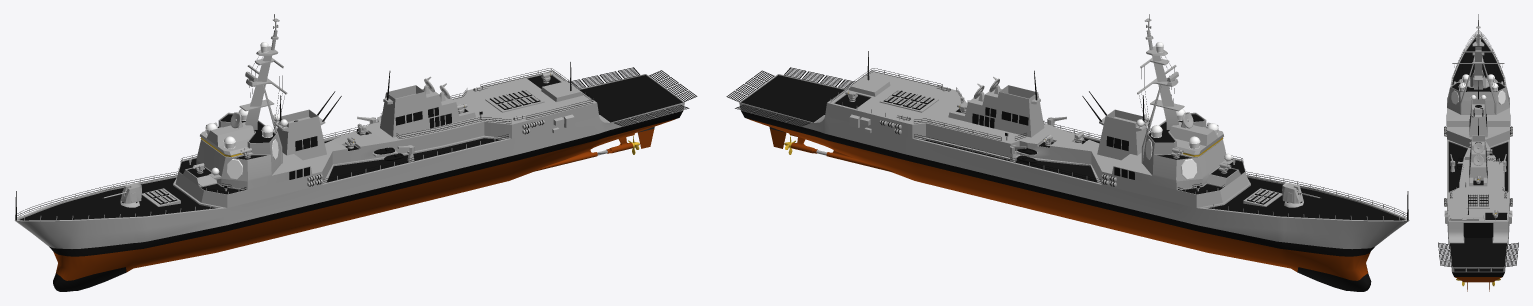
File: arleigh_burke_flight_iv_u.s.s._thomas_g._kelley.glb
The picture shows the model from 3 angles, left to right: view 1: azimuth 30°, elevation 25°; view 2: azimuth 150°, elevation 25°; view 3: azimuth 270°, elevation 25°; orthographic projection. The views are drawn at different scales.
Parts seen in each view (by area): view 1: Hull, SmokeStack_2, SmokeStack_1, MainMast, FlightMesh_1, Panels, VLS_2, Railing.001, StarboardShaft, Railing.004, Railing, FlightMesh_2 (+2 smaller); view 2: Hull, SmokeStack_2, SmokeStack_1, MainMast, FlightMesh_1, Panels, VLS_2, Railing.001, StarboardShaft, Railing, FlightMesh_2, Mk45 (+1 smaller); view 3: Hull, SmokeStack_2, SmokeStack_1, MainMast, FlightMesh_1, VLS_2, MastSmall_1.005, FlightMesh_2, AN/SPY_2, Crane, Railing, Panels (+7 smaller).
Boxes of the visible parts, left/top/right/bottom form: Hull: left=14, top=70, right=684, bottom=291; SmokeStack_2: left=380, top=85, right=475, bottom=137; SmokeStack_1: left=275, top=109, right=326, bottom=160; MainMast: left=239, top=14, right=287, bottom=129; FlightMesh_1: left=569, top=67, right=689, bottom=126; Panels: left=289, top=107, right=451, bottom=179; VLS_2: left=485, top=89, right=544, bottom=112; Railing.001: left=322, top=124, right=509, bottom=183; StarboardShaft: left=531, top=135, right=639, bottom=172; Railing.004: left=396, top=83, right=593, bottom=138; Railing: left=17, top=171, right=210, bottom=221; FlightMesh_2: left=649, top=70, right=697, bottom=101; Hull: left=739, top=71, right=1409, bottom=291; SmokeStack_2: left=948, top=85, right=1044, bottom=137; SmokeStack_1: left=1097, top=109, right=1148, bottom=160; MainMast: left=1137, top=14, right=1184, bottom=129; FlightMesh_1: left=735, top=67, right=855, bottom=126; Panels: left=972, top=107, right=1134, bottom=179; VLS_2: left=879, top=89, right=938, bottom=112; Railing.001: left=914, top=121, right=1101, bottom=183; StarboardShaft: left=784, top=135, right=893, bottom=172; Railing: left=1213, top=171, right=1406, bottom=221; FlightMesh_2: left=726, top=70, right=774, bottom=102; Mk45: left=1282, top=182, right=1321, bottom=207; Hull: left=1446, top=34, right=1510, bottom=282; SmokeStack_2: left=1469, top=135, right=1487, bottom=186; SmokeStack_1: left=1469, top=99, right=1487, bottom=137; MainMast: left=1452, top=22, right=1504, bottom=89; FlightMesh_1: left=1438, top=242, right=1518, bottom=266; VLS_2: left=1466, top=194, right=1489, bottom=208; MastSmall_1.005: left=1460, top=64, right=1496, bottom=114; FlightMesh_2: left=1454, top=268, right=1503, bottom=271; AN/SPY_2: left=1451, top=90, right=1505, bottom=104; Crane: left=1450, top=154, right=1506, bottom=172; Railing: left=1451, top=30, right=1505, bottom=84; Panels: left=1446, top=114, right=1510, bottom=177.
Size of the model in its own units: 5.13 by 1.68 by 0.7927.
